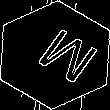M_SW: (18, 21, 92, 89)
